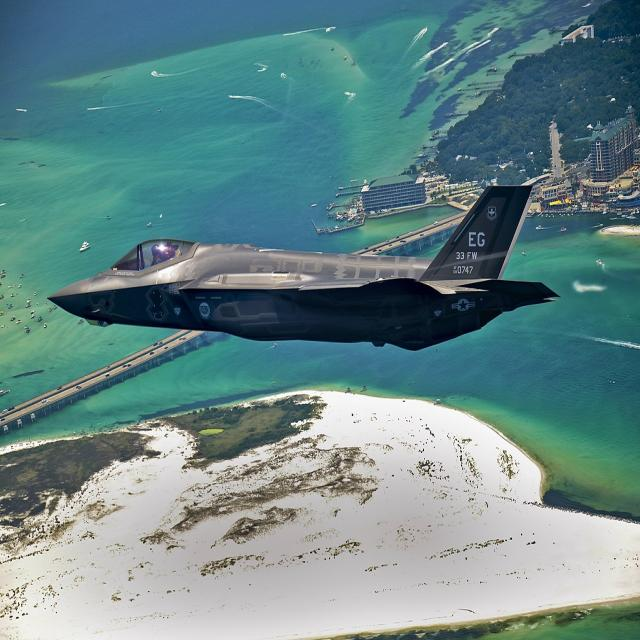MIL_Plane: (45, 185, 561, 351)
